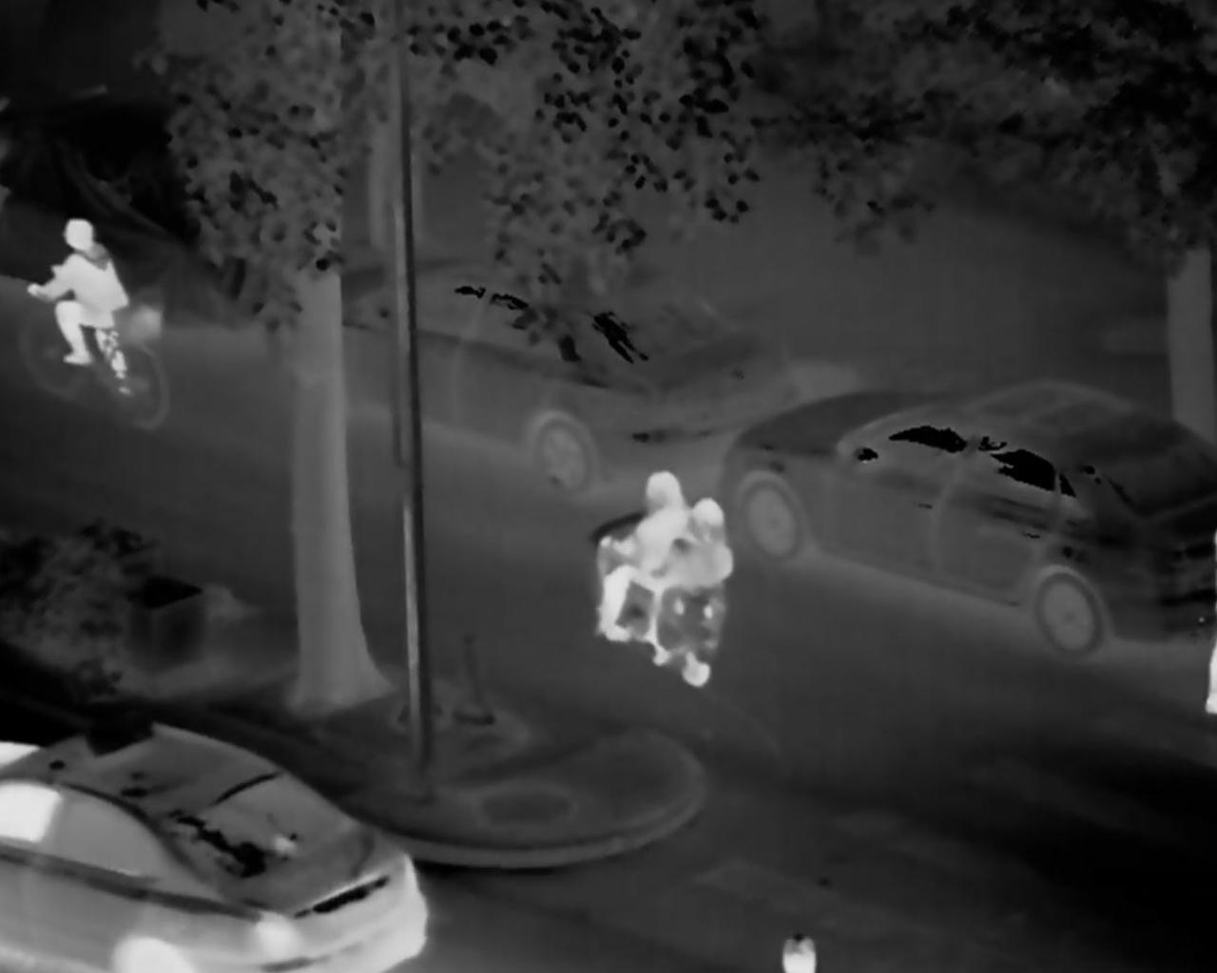person: (28, 213, 134, 391), (589, 470, 683, 653), (658, 501, 742, 642)
